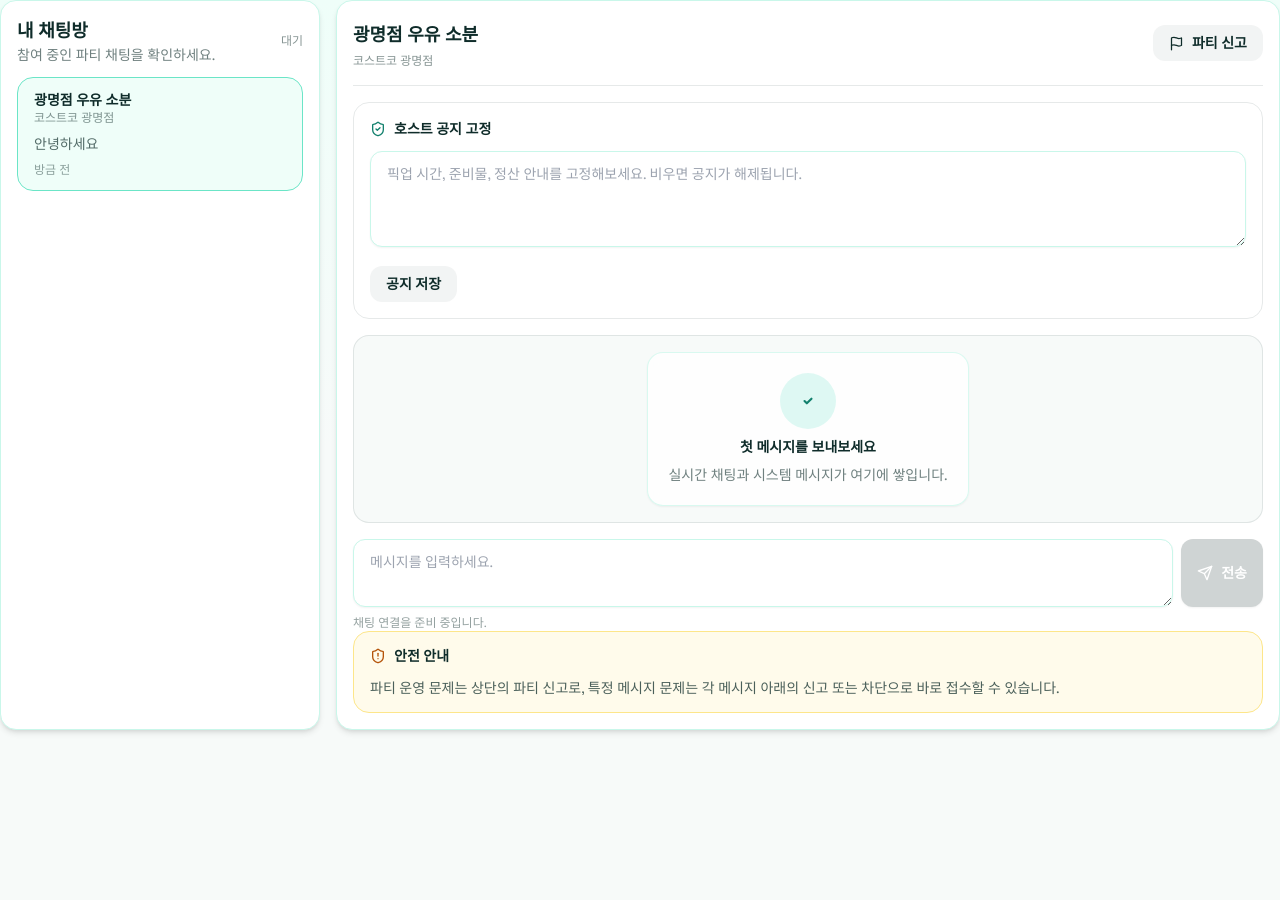
Scenario: Chat flow › 호스트가_공지_저장에_성공한다
The width and height of the screenshot is (1280, 900).
Expected: the button "공지 저장" is shown, [370,266,457,302]
Type "픽업은 1층 정문 앞에서 진행합니다." into the text box with placeholder "픽업 시간, 준비물, 정산 안내를 고정해보세요. 비우면 공지가 해제됩니다." at (808, 199), box [370,151,1246,247]
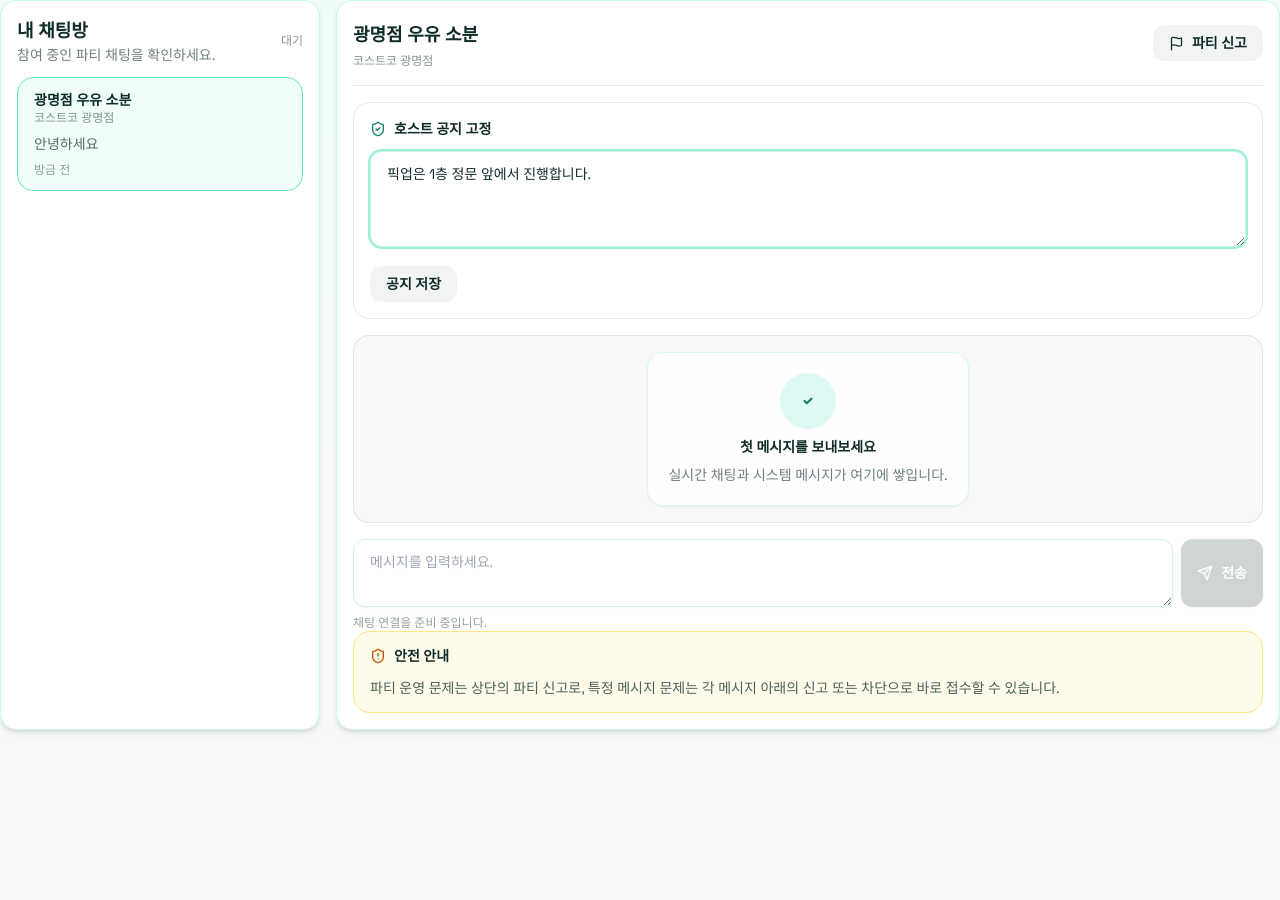
Click the button "공지 저장" at (414, 284), box [370,266,457,302]
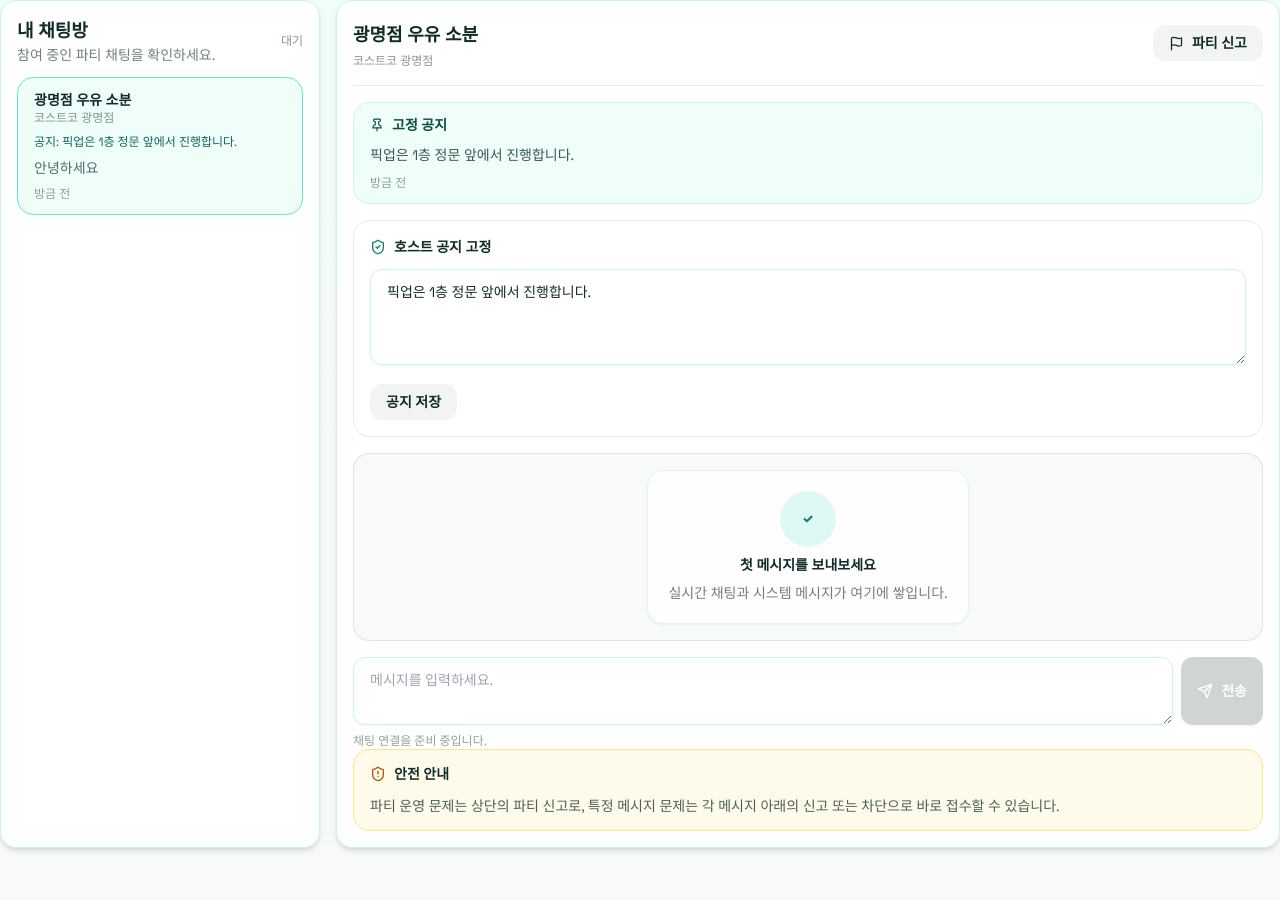
Now the text "픽업은 1층 정문 앞에서 진행합니다." is shown, box [370,146,574,164]
